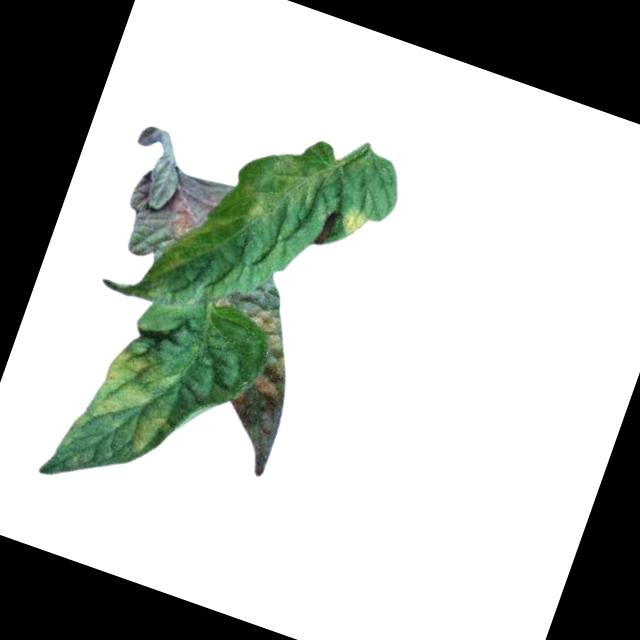Leaf_Mold: (67, 332, 190, 468), (115, 154, 235, 276), (212, 332, 306, 475), (212, 261, 307, 341), (337, 204, 370, 243)
